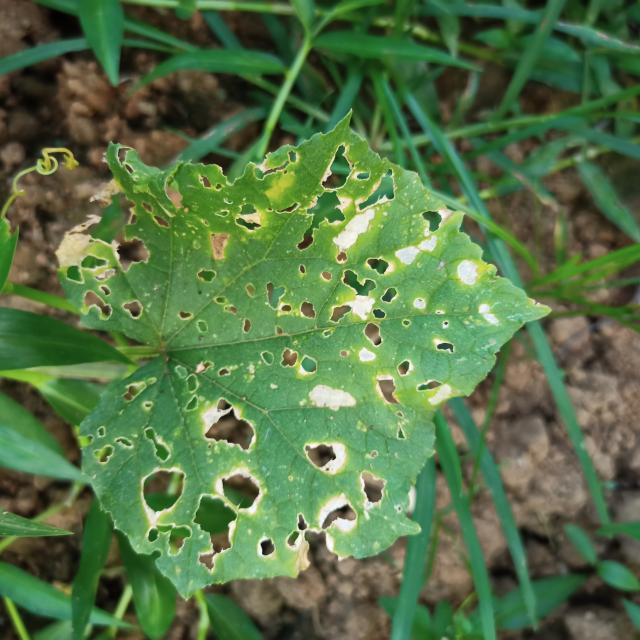disease_cucumber: (58, 155, 513, 578)
